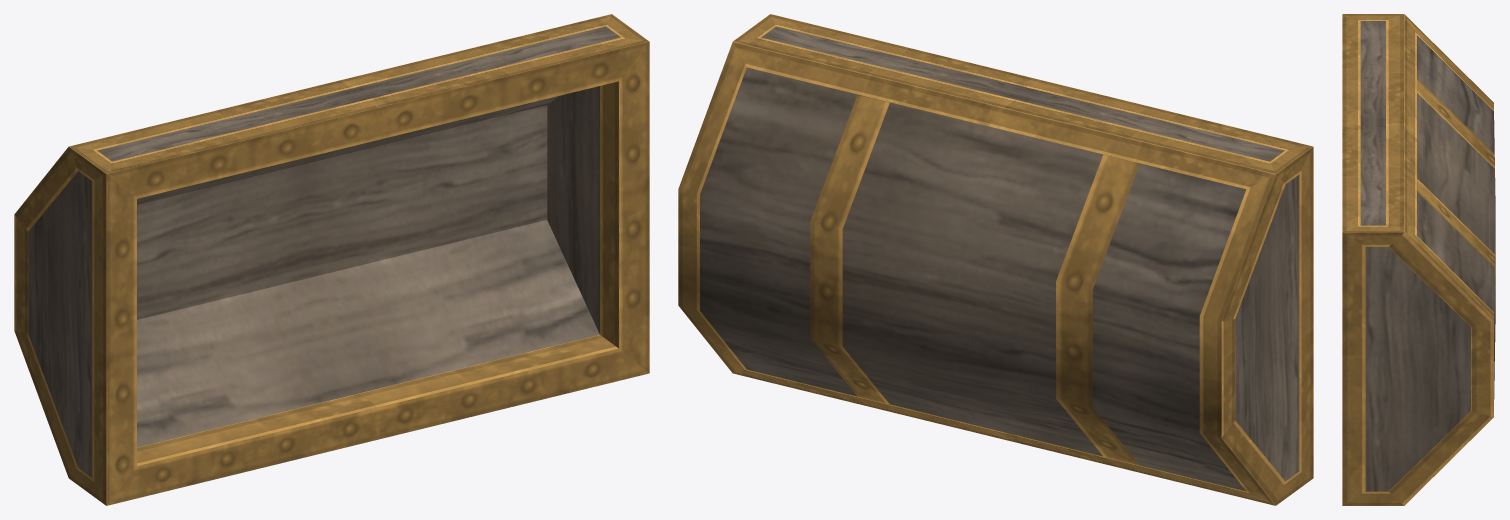
Rendered from Chest_B_Gold_Top.fbx.
3 views of the same model, side by side, from view 1: azimuth 30°, elevation 25°; view 2: azimuth 150°, elevation 25°; view 3: azimuth 270°, elevation 25° (orthographic). The views are drawn at different scales.
Parts seen in each view (by area): view 1: Chest_B_Gold_Top; view 2: Chest_B_Gold_Top; view 3: Chest_B_Gold_Top.
Part boxes in pixels (<box>): Chest_B_Gold_Top: <box>14,14,649,505</box>; Chest_B_Gold_Top: <box>678,14,1313,505</box>; Chest_B_Gold_Top: <box>1342,14,1495,505</box>.
Size of the model in its own units: 1.25 by 0.7272 by 0.3701.
